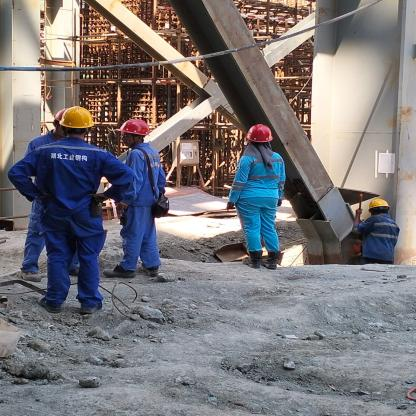bota: (101, 262, 135, 279), (34, 294, 60, 312), (77, 296, 102, 314), (239, 250, 262, 267), (17, 266, 43, 281), (140, 262, 162, 277), (262, 251, 280, 269)
